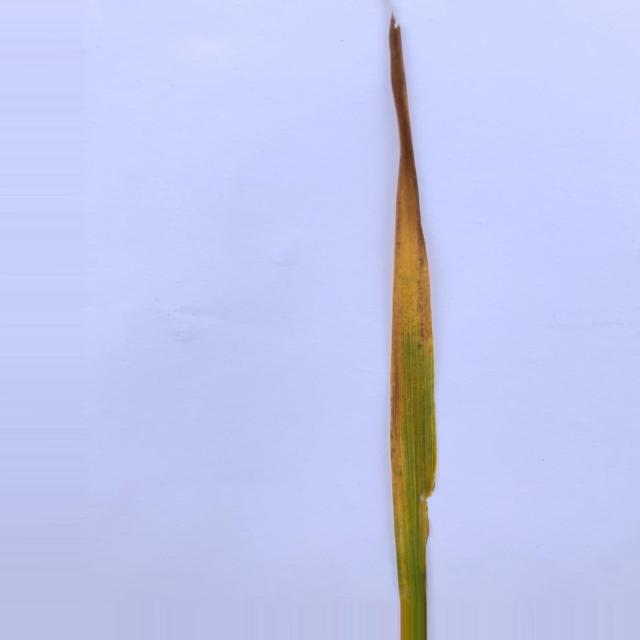Rice Tungro: (388, 16, 437, 639)
